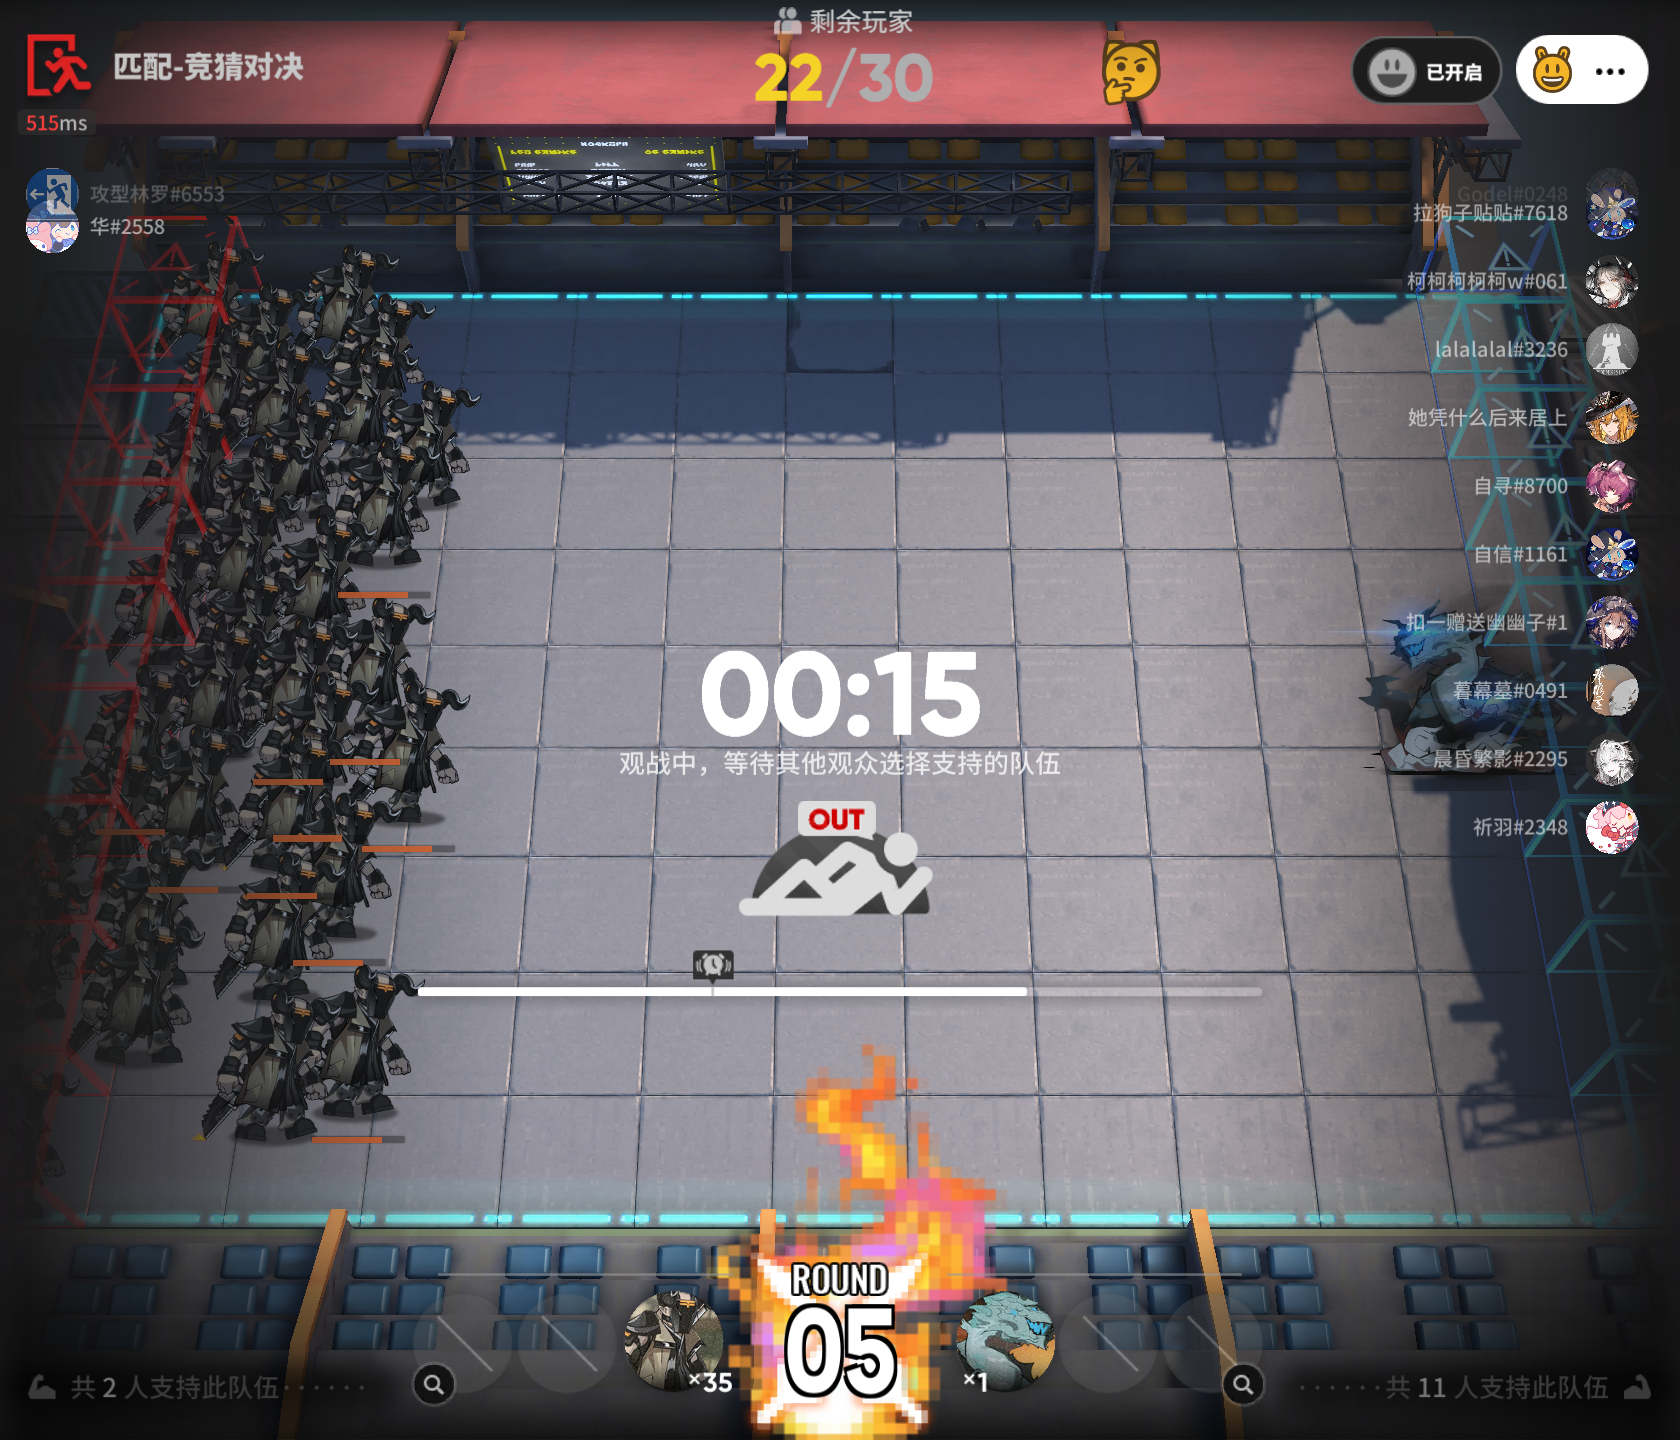“自在”: (1359, 601, 1586, 783), (951, 1291, 1064, 1391)
普通的萨卡兹: (310, 954, 433, 1126), (73, 927, 206, 1079), (206, 990, 326, 1154), (354, 671, 481, 821), (289, 793, 406, 951), (227, 851, 336, 1001), (146, 721, 254, 871), (327, 591, 444, 723), (94, 837, 213, 964), (617, 1283, 734, 1397), (260, 667, 369, 789), (61, 743, 161, 874), (239, 736, 331, 877), (389, 374, 481, 513), (339, 434, 436, 566), (291, 243, 406, 353), (0, 1074, 83, 1224), (116, 534, 213, 661), (159, 244, 264, 357), (174, 621, 266, 749), (0, 910, 84, 1040), (206, 489, 289, 620), (259, 399, 356, 509), (0, 816, 99, 921), (279, 513, 367, 626), (229, 341, 326, 444), (156, 409, 234, 534), (331, 299, 434, 394), (320, 351, 419, 449), (89, 660, 179, 766), (256, 609, 339, 717), (170, 331, 274, 416), (213, 449, 309, 523), (211, 291, 311, 360)
